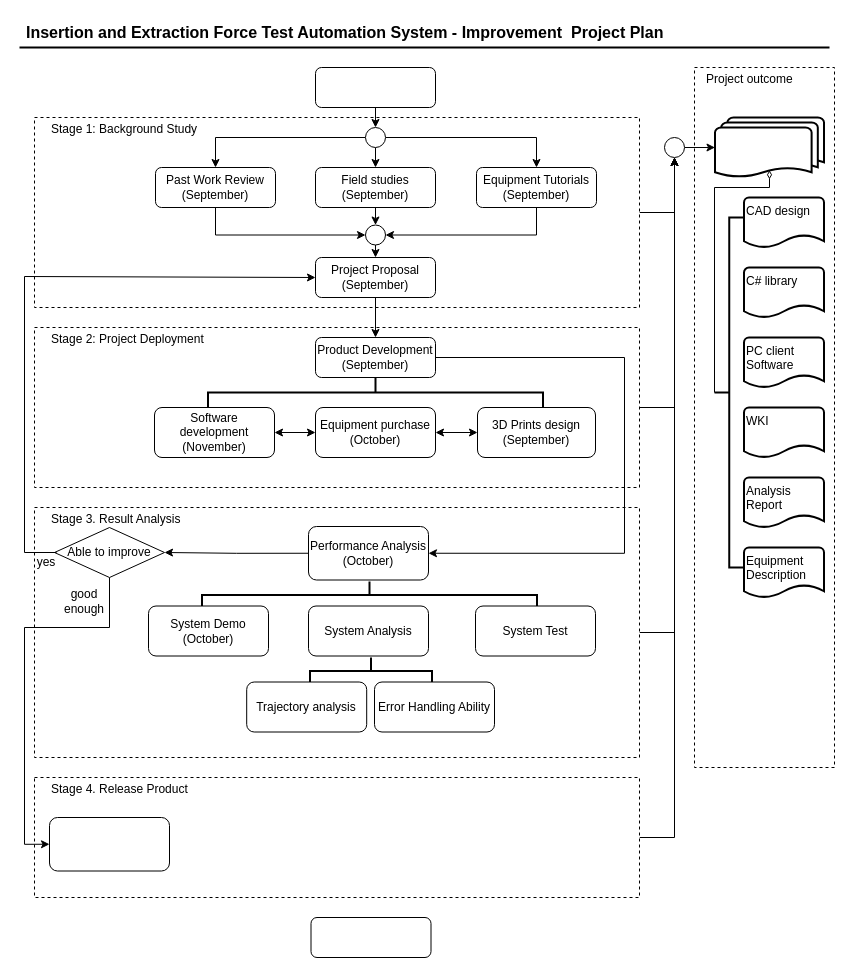
The diagram is 852 pixels wide and 975 high, and some of its shapes have lost their labels. Each missing label, with the box of its shape:
Documentations: (714, 116, 824, 178)
End Project (February 2021): (310, 916, 431, 958)
Product Release: (48, 816, 170, 871)
Start Project (September1st, 2020): (314, 66, 436, 108)
